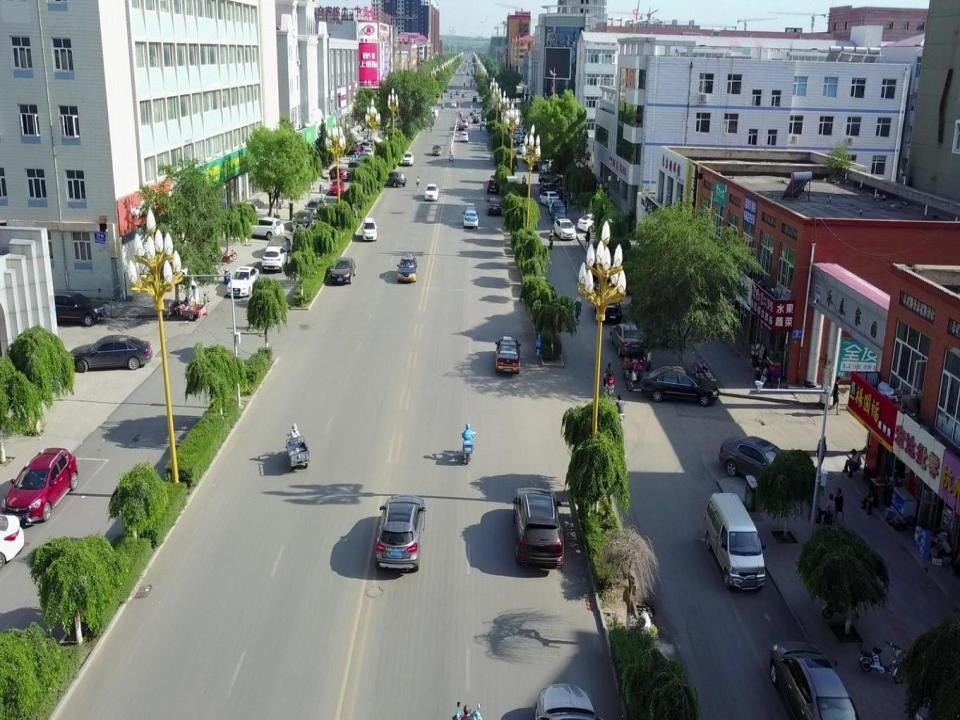car: (769, 641, 859, 720), (1, 447, 78, 523), (512, 487, 564, 568), (719, 435, 795, 487), (376, 493, 426, 572), (68, 333, 152, 373), (641, 365, 719, 406), (43, 290, 106, 326), (610, 322, 645, 358), (495, 335, 521, 373), (228, 268, 260, 296), (243, 217, 284, 238), (594, 294, 622, 322), (578, 212, 614, 232), (330, 257, 356, 284), (262, 246, 288, 272), (397, 254, 417, 282), (267, 234, 291, 256), (292, 208, 314, 231), (553, 218, 576, 239), (304, 197, 325, 218), (538, 170, 563, 187), (361, 217, 378, 240), (383, 172, 407, 188), (540, 182, 564, 198), (462, 206, 478, 228), (548, 198, 568, 214), (329, 166, 349, 182), (539, 190, 560, 205), (487, 197, 503, 214), (487, 174, 501, 193), (329, 178, 345, 194), (424, 184, 439, 200), (357, 141, 376, 152), (347, 160, 361, 174), (354, 152, 371, 163), (403, 150, 414, 166), (431, 144, 442, 156), (364, 148, 375, 158), (460, 131, 468, 142)
van: (704, 492, 766, 589), (552, 201, 567, 223)
